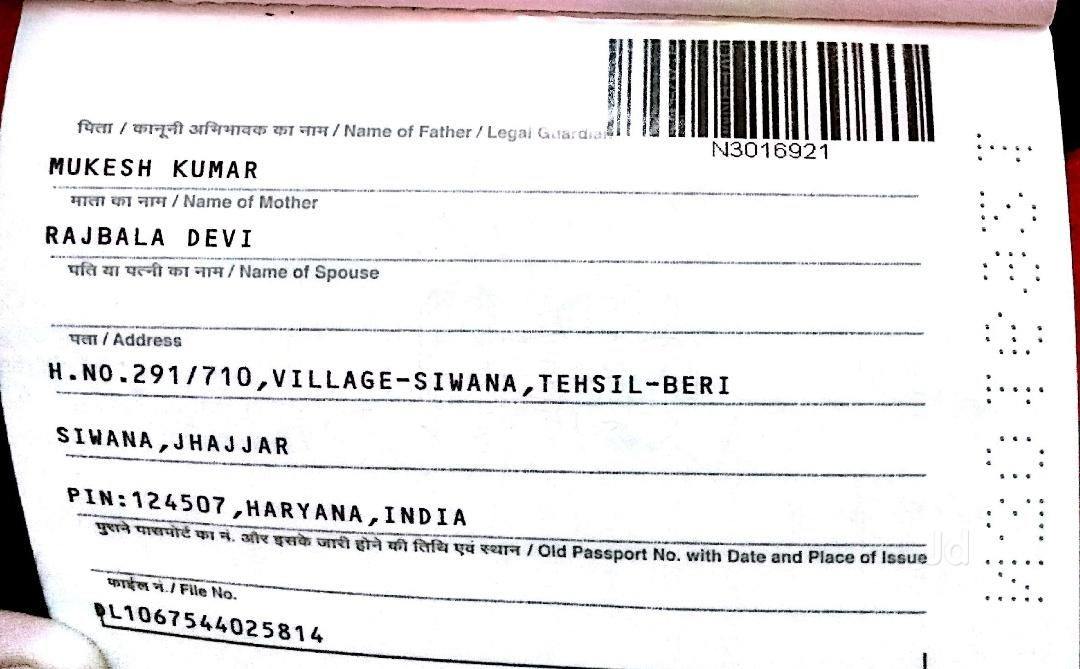File_no: (101, 596, 344, 653)
address: (39, 349, 789, 539)
father_name: (36, 147, 281, 191)
mother_name: (31, 213, 295, 261)
passport_no: (697, 133, 841, 177)
